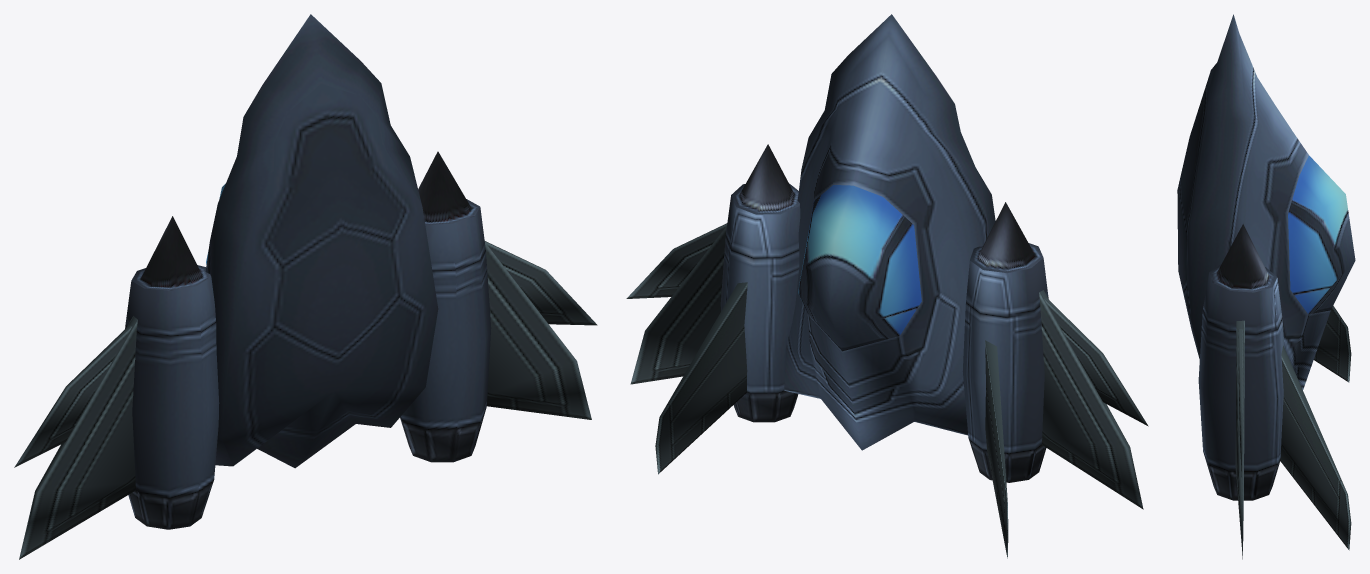
File: black hawk.FBX
3 renders of one model, left to right at view 1: azimuth 30°, elevation 25°; view 2: azimuth 150°, elevation 25°; view 3: azimuth 270°, elevation 25°, orthographic. The views are drawn at different scales.
Visible parts, largest first — view 1: black hawk; view 2: black hawk; view 3: black hawk.
Boxes of the visible parts, left/top/right/bottom form: black hawk: left=14, top=14, right=597, bottom=559; black hawk: left=626, top=14, right=1148, bottom=558; black hawk: left=1177, top=14, right=1355, bottom=559.
Bounding box in the file's own units: 241 × 72.13 × 202.
